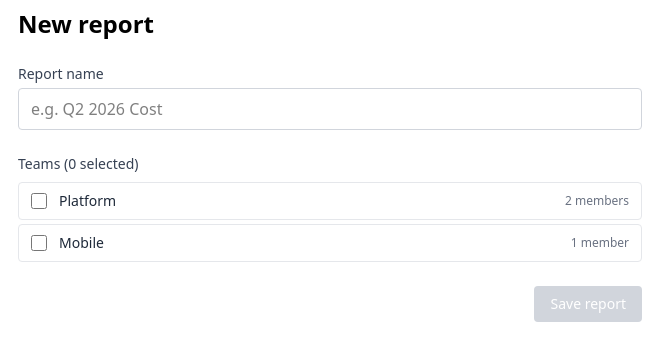
disables the button and shows progress while saving
The image size is (661, 339).
In the field labelled "Report name": (330, 109) [18,88,642,130], type "Q2 Cost"
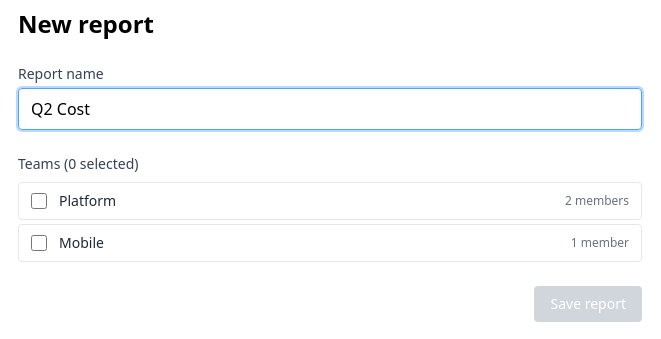
Click the checkbox labelled "Platform 2 members": (39, 201) [31,193,47,209]
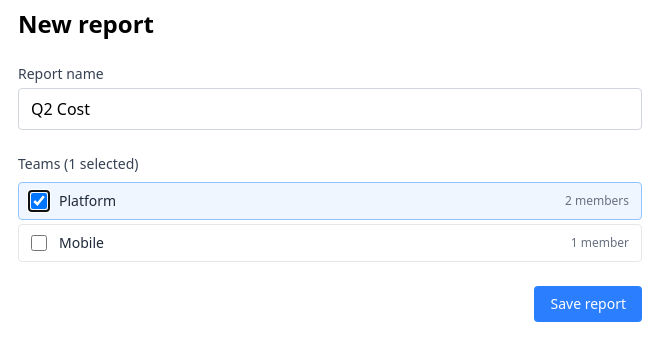
Click the button "Save report": (588, 304) [534,286,642,322]
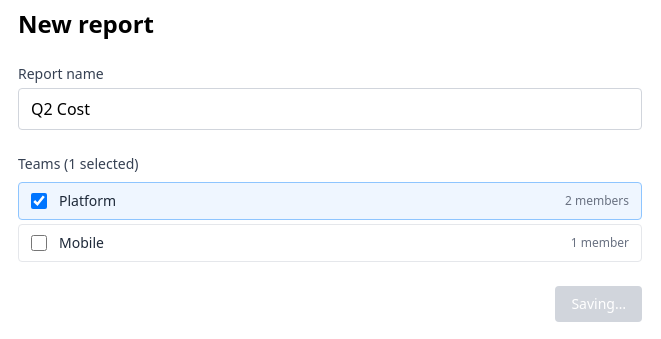
Expected: the button "Saving…" is disabled, [555,286,642,322]
